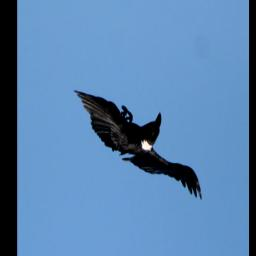Crow: (73, 81, 203, 211)
